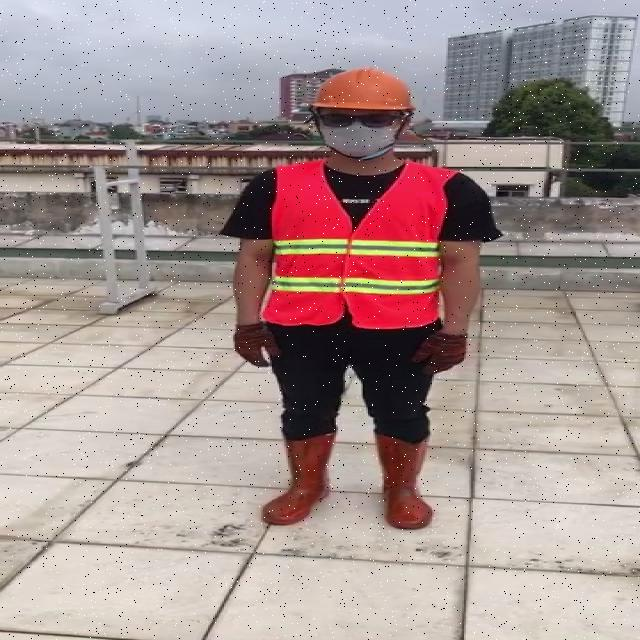Hard_hat: (303, 66, 419, 124)
Person: (215, 63, 509, 553)
Vest: (267, 156, 446, 329)
